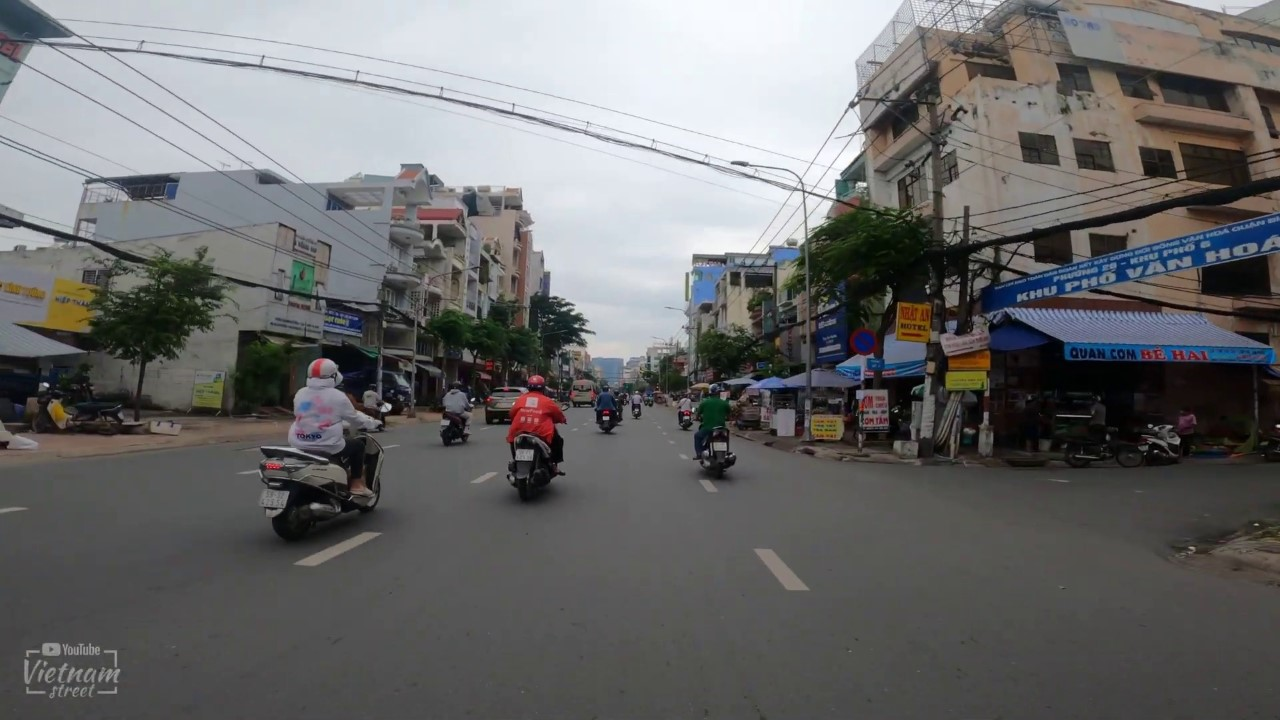cam_do_xe: (850, 328, 879, 356)
